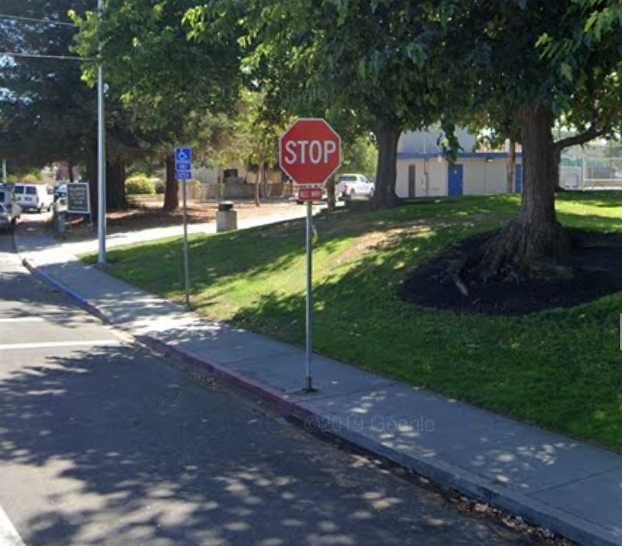stop_sign: (280, 118, 343, 183)
